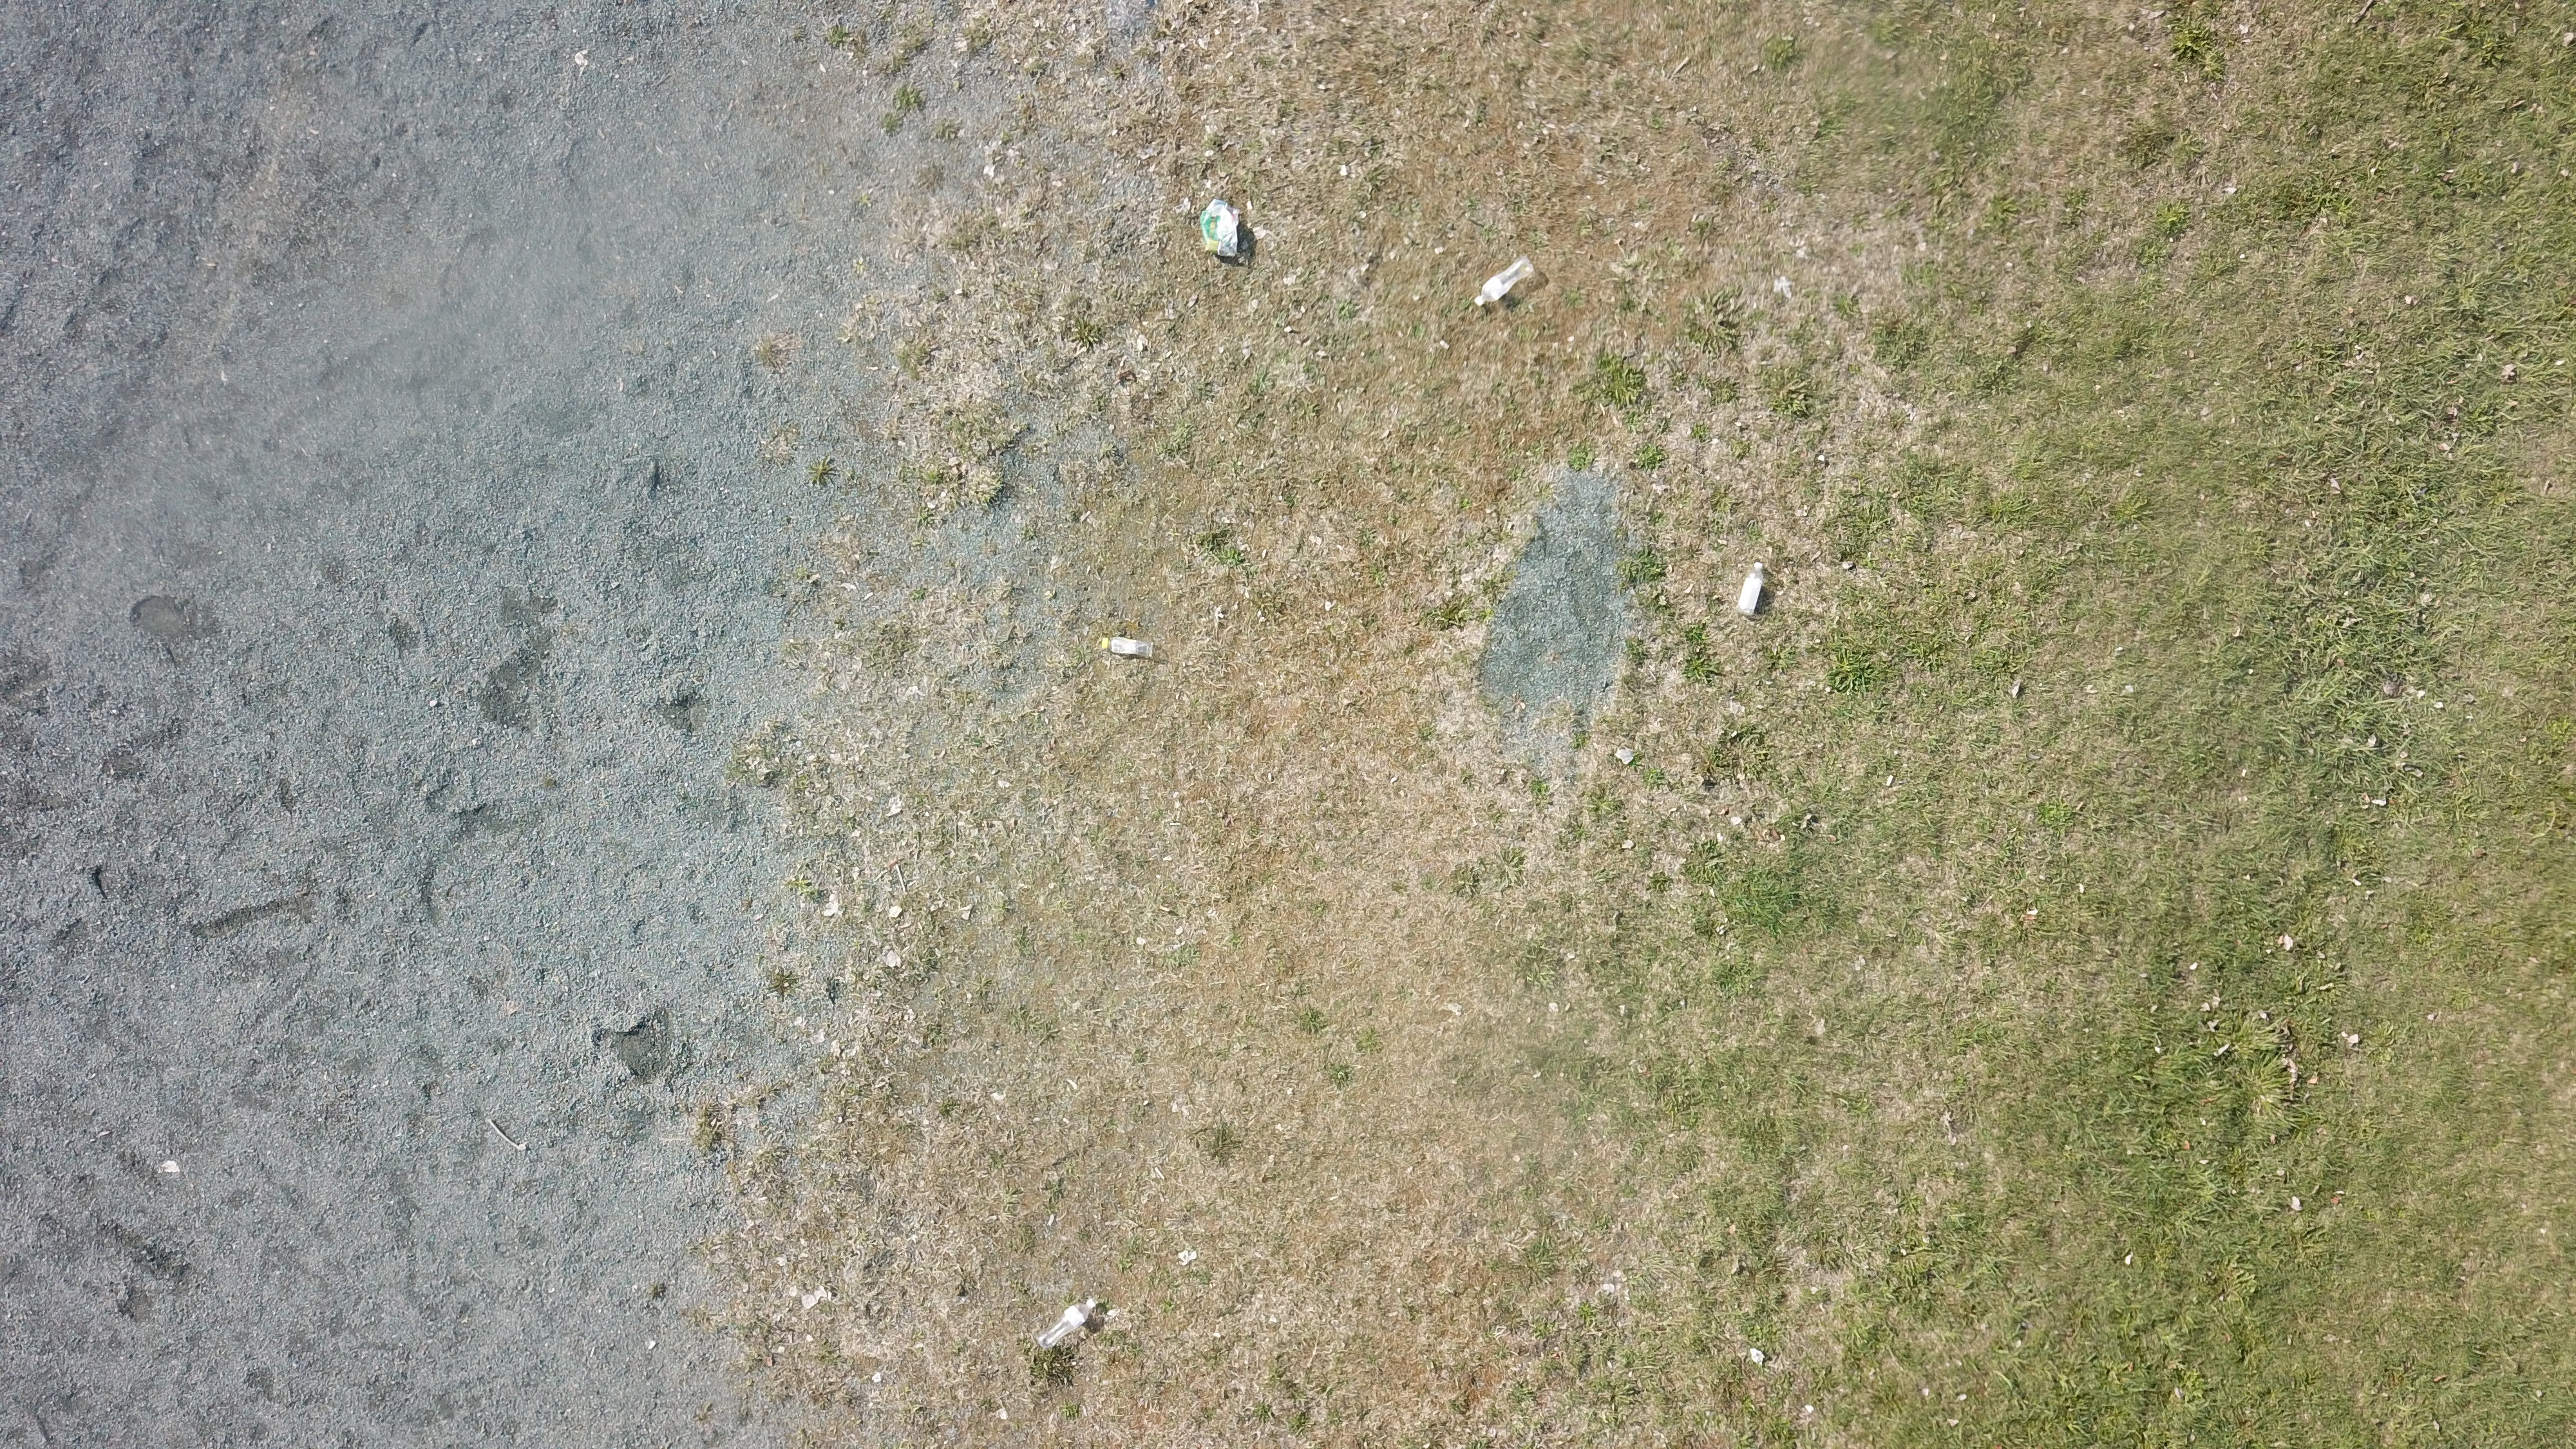Plastic: (1203, 202, 1244, 258)
PlasticBottle: (1035, 1299, 1093, 1350), (1476, 257, 1532, 308), (1737, 559, 1766, 617), (1099, 637, 1157, 660)
